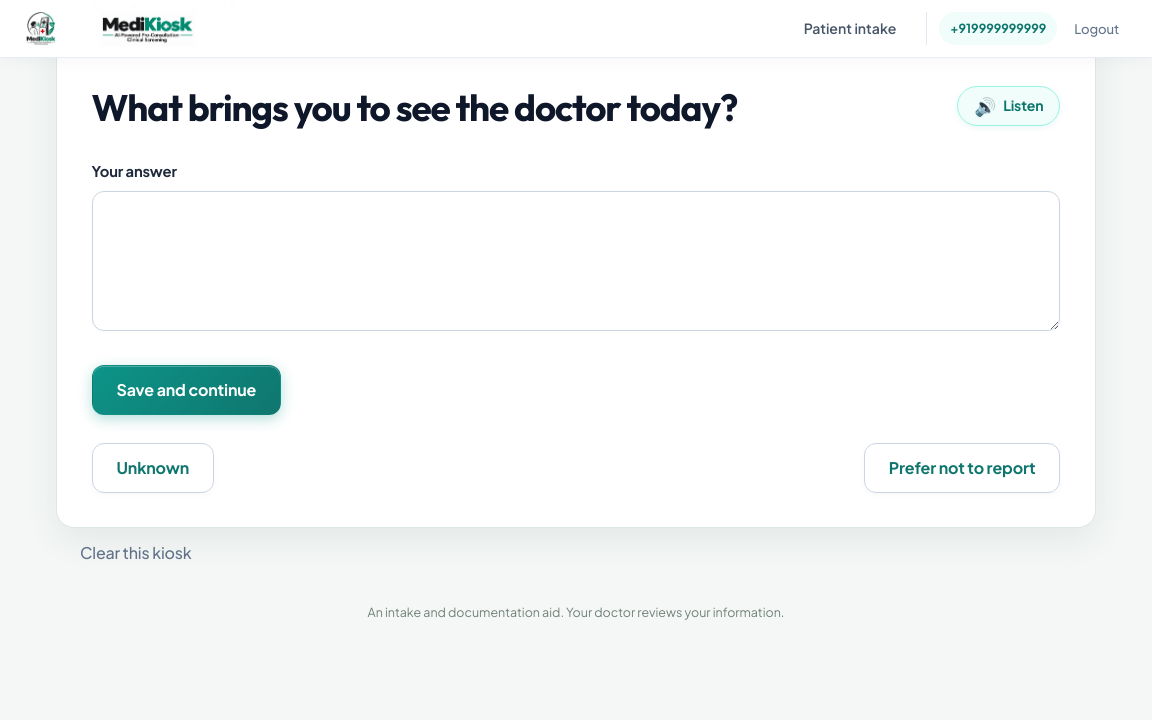
it: Patient intake › requires an explicit answer instead of inventing a default
This screenshot has width=1152, height=720.
(page scrolled)
Expected: the text box labelled "Your answer" is shown, [92,191,1060,331]
Click the button "Save and continue": x=186, y=390 [92,365,281,415]
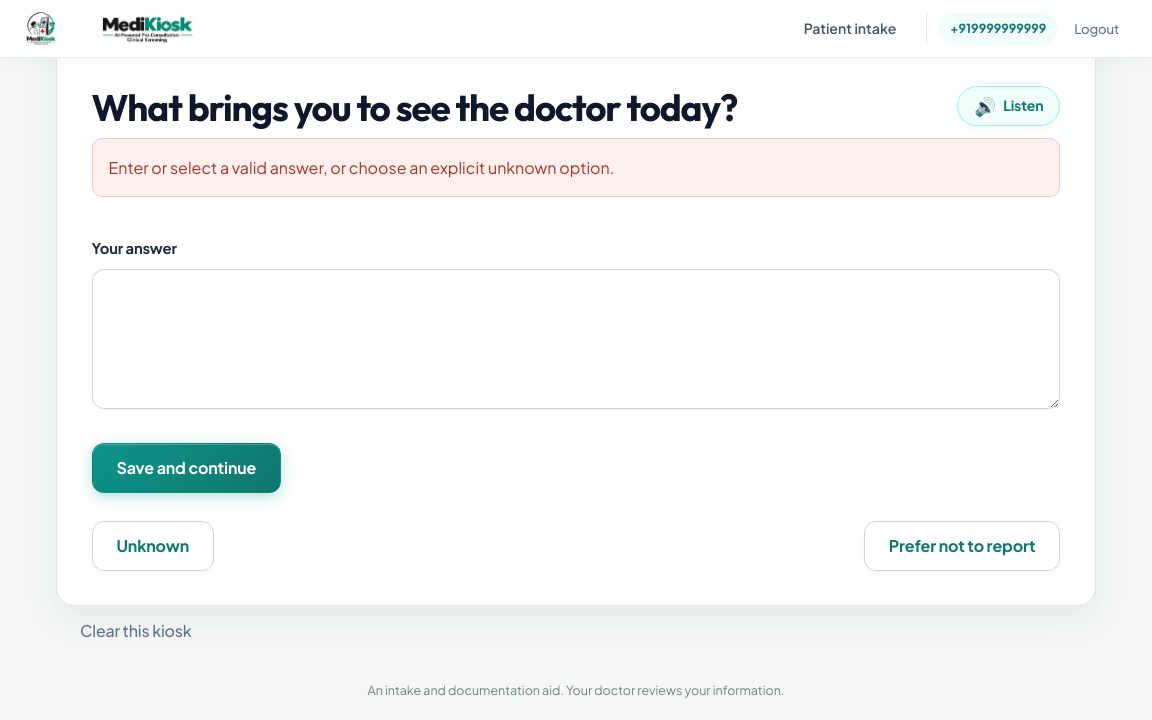
Now the message "Enter or select a valid answer, or choose an explicit unknown option." is shown, box [92,138,1060,197]
